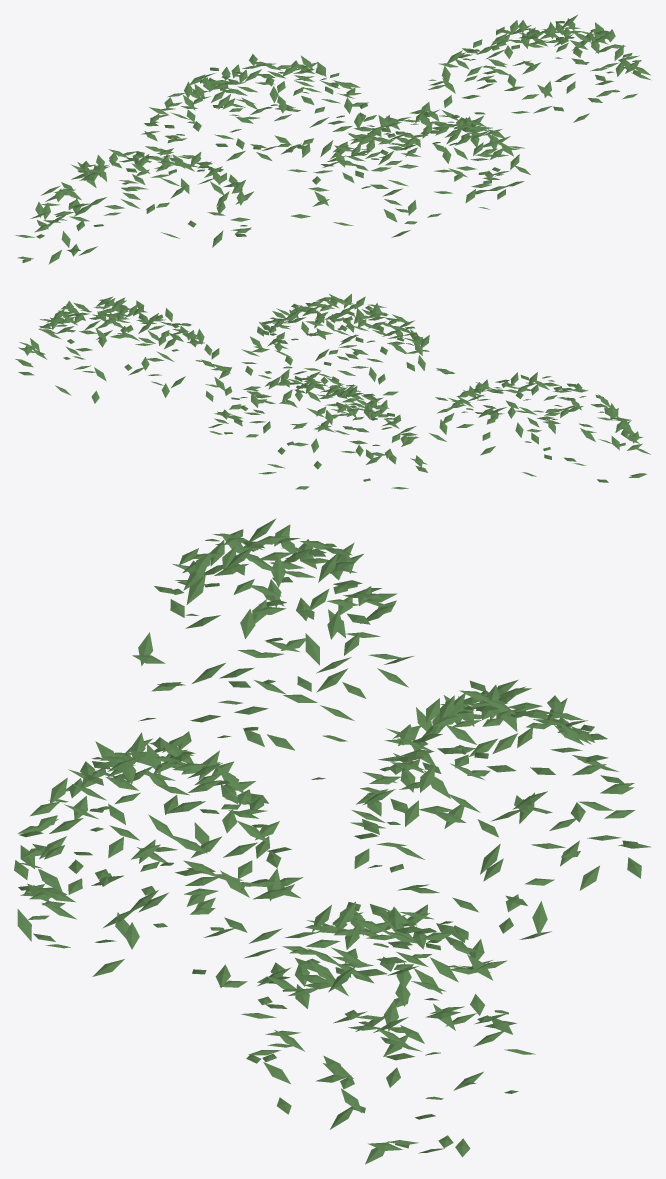
File: teaching3-vegetation-03-near.glb
The picture shows the model from 3 angles, top to bottom: view 1: azimuth 30°, elevation 25°; view 2: azimuth 150°, elevation 25°; view 3: azimuth 270°, elevation 25°; orthographic projection. The views are drawn at different scales.
Visible parts, largest first — view 1: shrubs.003; view 2: shrubs.003; view 3: shrubs.003.
Part boxes in pixels (bbox=[...]): shrubs.003: bbox=[15, 15, 651, 264]; shrubs.003: bbox=[15, 294, 650, 489]; shrubs.003: bbox=[14, 518, 650, 1164].
Bounding box in the file's own units: 11.92 × 1.52 × 5.53.
